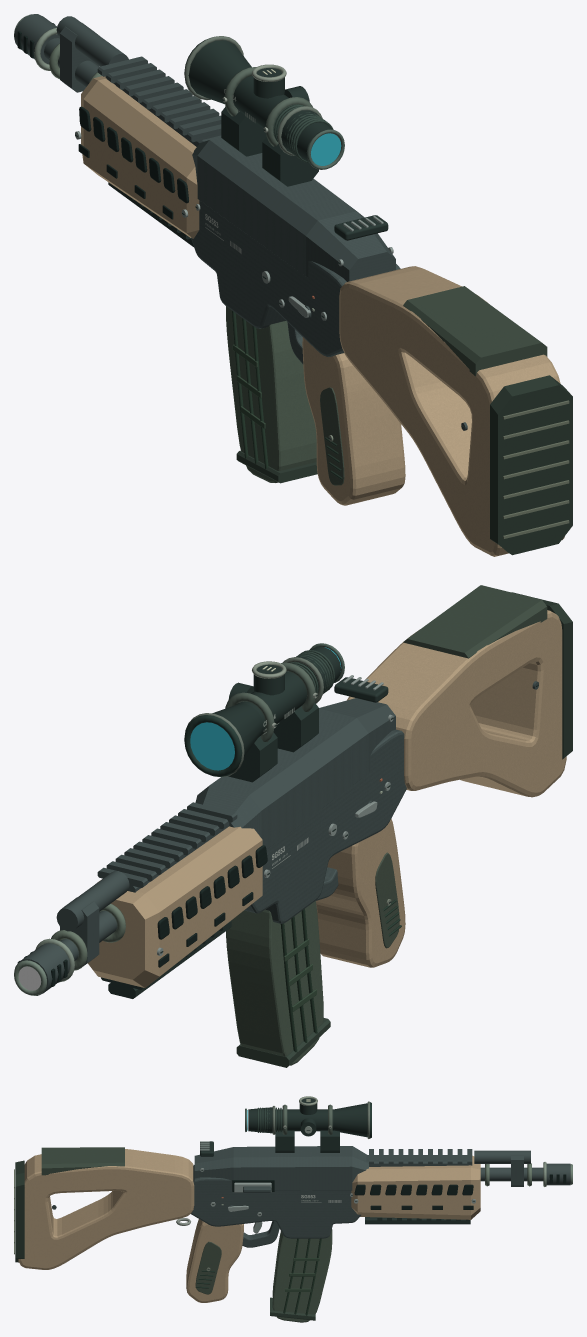
The picture shows the model from 3 angles, top to bottom: view 1: azimuth 30°, elevation 25°; view 2: azimuth 150°, elevation 25°; view 3: azimuth 270°, elevation 25°; orthographic projection. The views are drawn at different scales.
Visible parts, largest first — view 1: sg553, magazine; view 2: sg553, magazine; view 3: sg553, magazine, bolt.
Part boxes in pixels (left/top/right/bottom): sg553: left=14, top=14, right=572, bottom=556; magazine: left=226, top=306, right=317, bottom=483; sg553: left=14, top=585, right=572, bottom=998; magazine: left=226, top=900, right=330, bottom=1067; sg553: left=14, top=1096, right=572, bottom=1302; magazine: left=270, top=1229, right=332, bottom=1322; bolt: left=234, top=1182, right=271, bottom=1192.
Size of the model in its own units: 0.1552 by 0.6329 by 1.48.
Materials: 37 (19 with a texture image).
